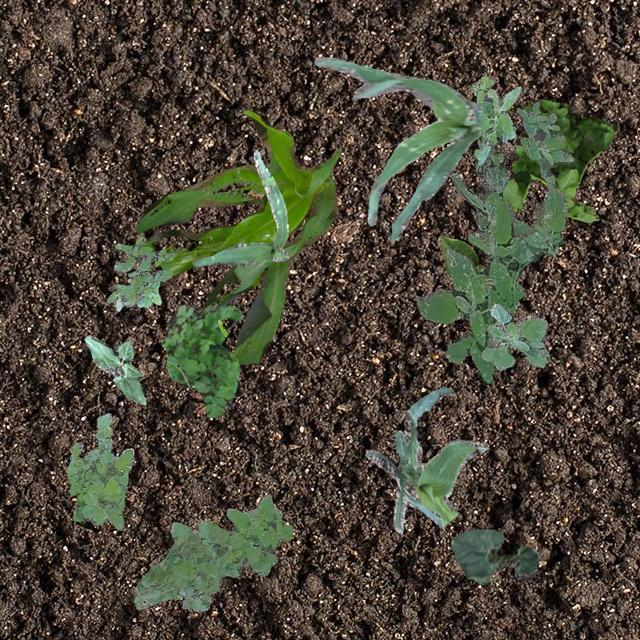crop: (134, 109, 340, 364), (314, 56, 481, 240), (364, 386, 486, 534), (192, 148, 288, 266), (449, 528, 536, 582), (84, 334, 144, 404), (436, 233, 484, 276)
weed: (414, 188, 566, 384), (132, 494, 292, 610), (502, 98, 616, 222), (160, 304, 240, 416), (450, 134, 530, 236), (66, 412, 132, 530), (106, 233, 174, 310), (516, 100, 572, 190), (470, 74, 520, 164), (481, 302, 548, 368)
